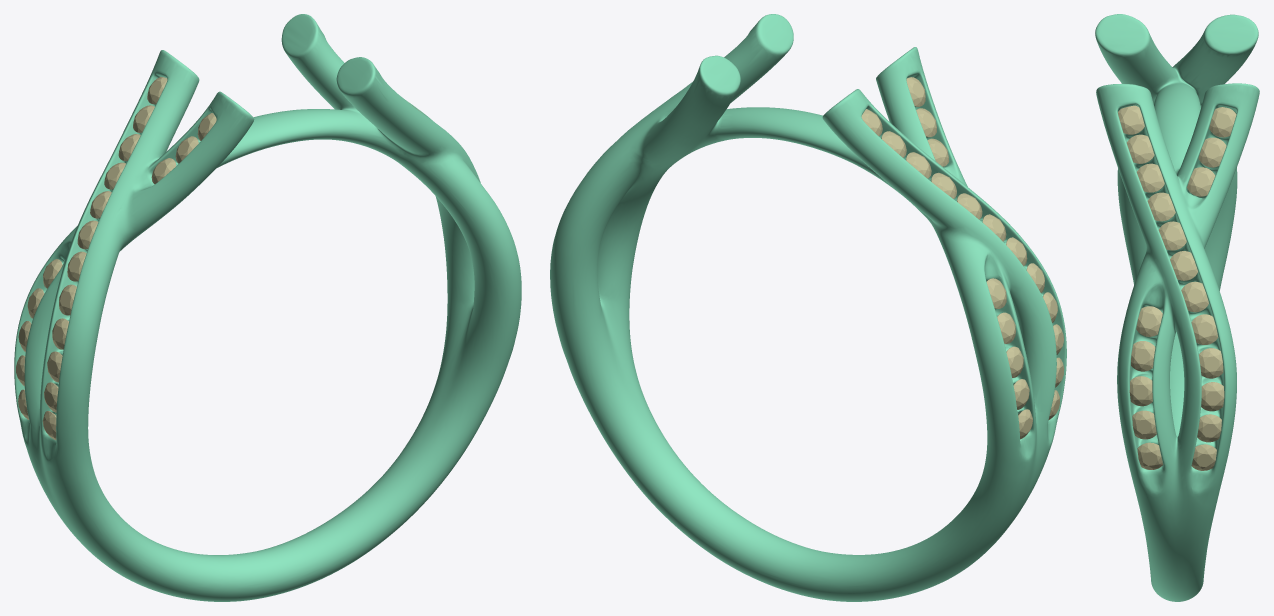
3 views of the same model, side by side, from view 1: azimuth 30°, elevation 25°; view 2: azimuth 150°, elevation 25°; view 3: azimuth 270°, elevation 25° (orthographic).
Visible parts, largest first — view 1: Metal02; view 2: Metal02; view 3: Metal02, Diamond_Gem.007, Diamond_Gem.019, Diamond_Gem.008, Diamond_Gem.006, Diamond_Gem.018, Diamond_Gem.002, Diamond_Gem.001, Diamond_Gem.017, Diamond_Gem.009, Diamond_Gem, Diamond_Gem.005 (+9 smaller).
Boxes of the visible parts, x1=… form: Metal02: x1=14, y1=14, x2=521, y2=601; Metal02: x1=550, y1=14, x2=1066, y2=601; Metal02: x1=1095, y1=14, x2=1259, y2=601; Diamond_Gem.007: x1=1191, y1=314, x2=1218, y2=344; Diamond_Gem.019: x1=1136, y1=306, x2=1162, y2=336; Diamond_Gem.008: x1=1181, y1=281, x2=1208, y2=312; Diamond_Gem.006: x1=1199, y1=348, x2=1223, y2=378; Diamond_Gem.018: x1=1131, y1=341, x2=1155, y2=371; Diamond_Gem.002: x1=1209, y1=107, x2=1236, y2=137; Diamond_Gem.001: x1=1198, y1=137, x2=1226, y2=167; Diamond_Gem.017: x1=1129, y1=376, x2=1152, y2=406; Diamond_Gem.009: x1=1170, y1=251, x2=1197, y2=280; Diamond_Gem: x1=1187, y1=167, x2=1215, y2=196; Diamond_Gem.005: x1=1201, y1=382, x2=1224, y2=411.
Size of the model in its own units: 20.95 by 22.73 by 6.42.
